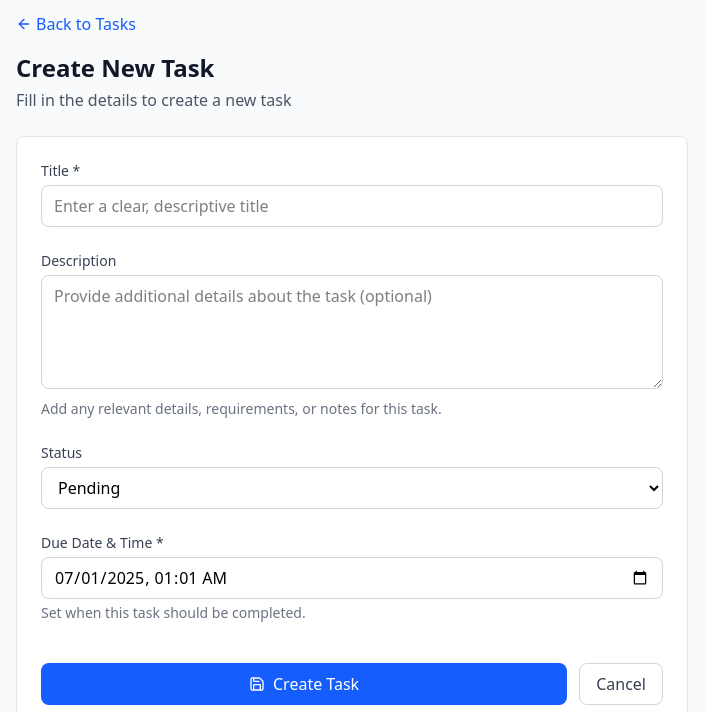
TaskForm › shows validation error for empty title
Click the button "Create Task" at (304, 684), box [41, 663, 567, 705]
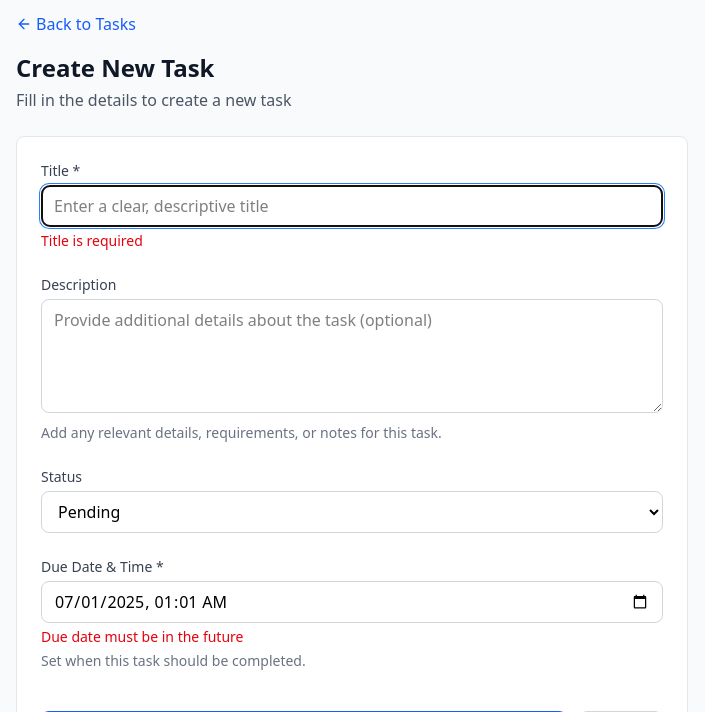
Expected: the text "Title is required" is shown, [41, 231, 143, 250]
